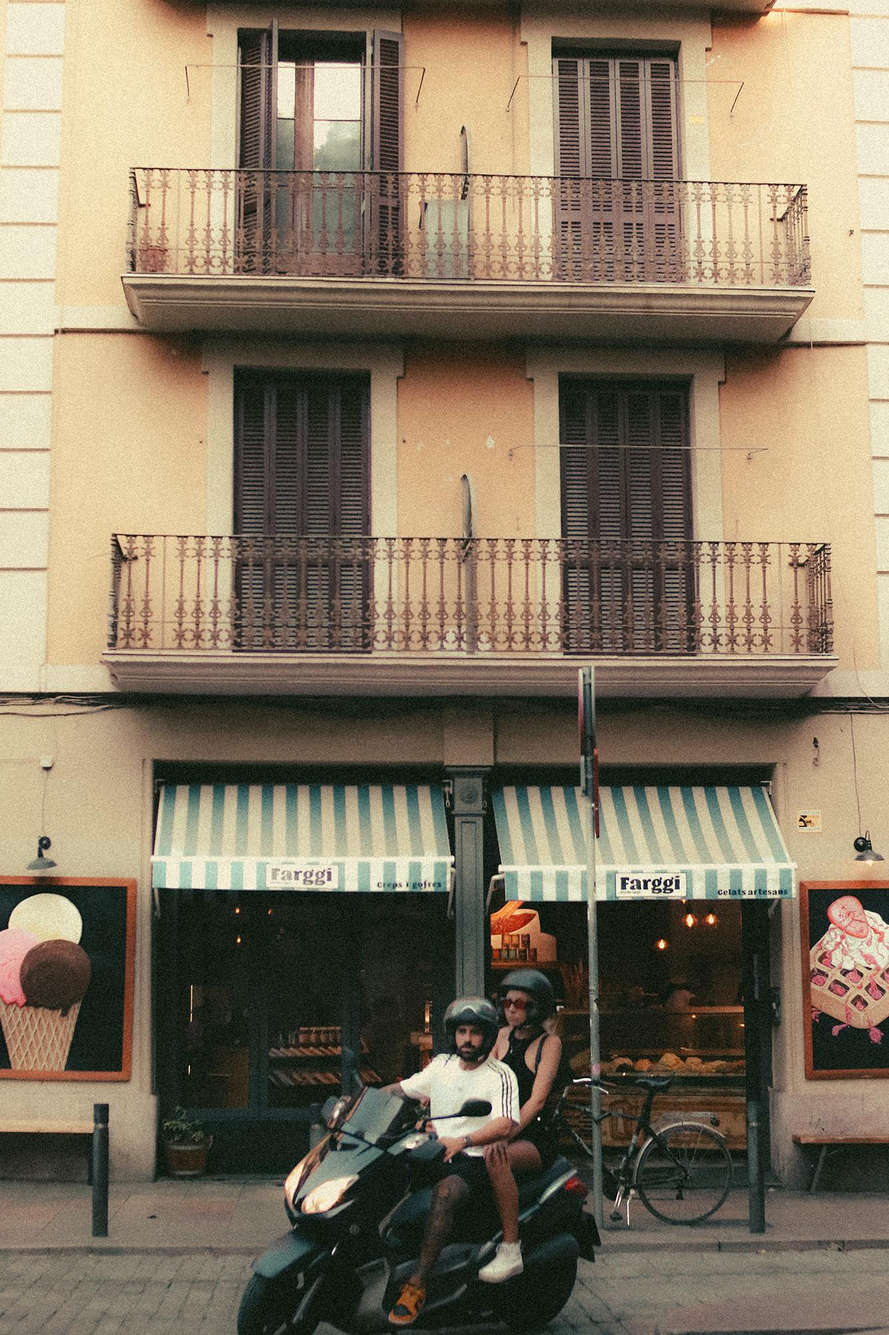helmet: (495, 967, 557, 1037), (442, 994, 500, 1063)
